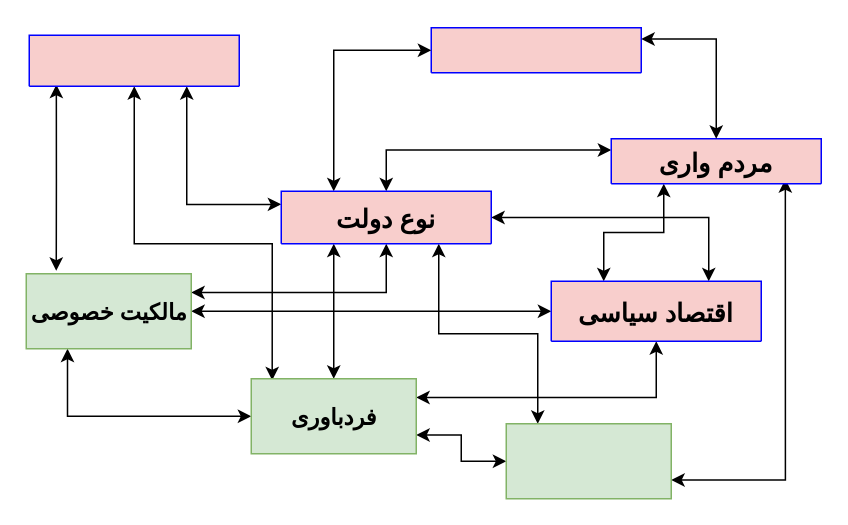
The diagram is 848 pixels wide and 525 high, and some of its shapes have lost their labels. The shapes that lost their labels are listed below. From the top down, each one's centre as x and y in pixels, then its label:
(133,60): ساختار جامعه
(535,49): حاکمیت قانون
(588,460): تعقل و اندیشه
